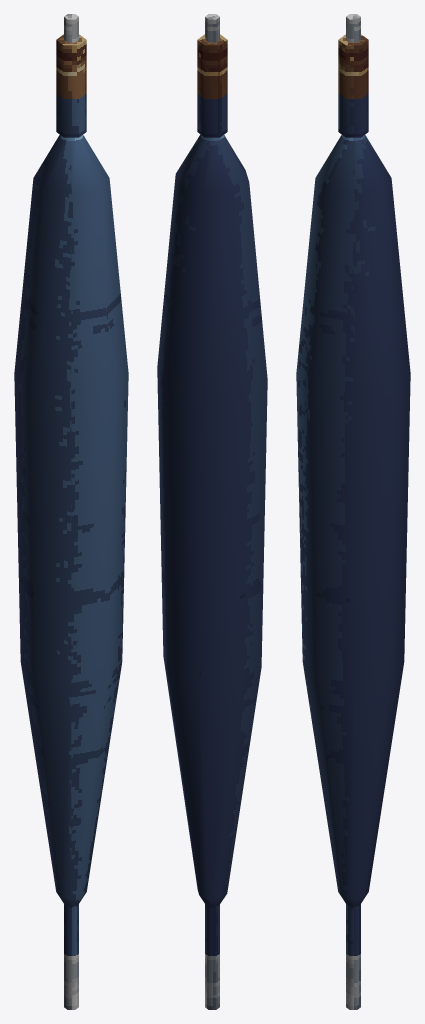
Rendered from umbrella_closed.glb.
The picture shows the model from 3 angles, left to right: view 1: azimuth 90°, elevation 25°; view 2: azimuth 210°, elevation 25°; view 3: azimuth 270°, elevation 25°; orthographic projection.
Visible parts, largest first — view 1: mesh; view 2: mesh; view 3: mesh.
Part boxes in pixels (x1,y1,x2,y2): mesh: (14,14,128,1009); mesh: (157,14,267,1009); mesh: (296,14,410,1009).
Bounding box in the file's own units: 0.09 × 0.86 × 0.09.
Materials: 1 (1 with a texture image).
